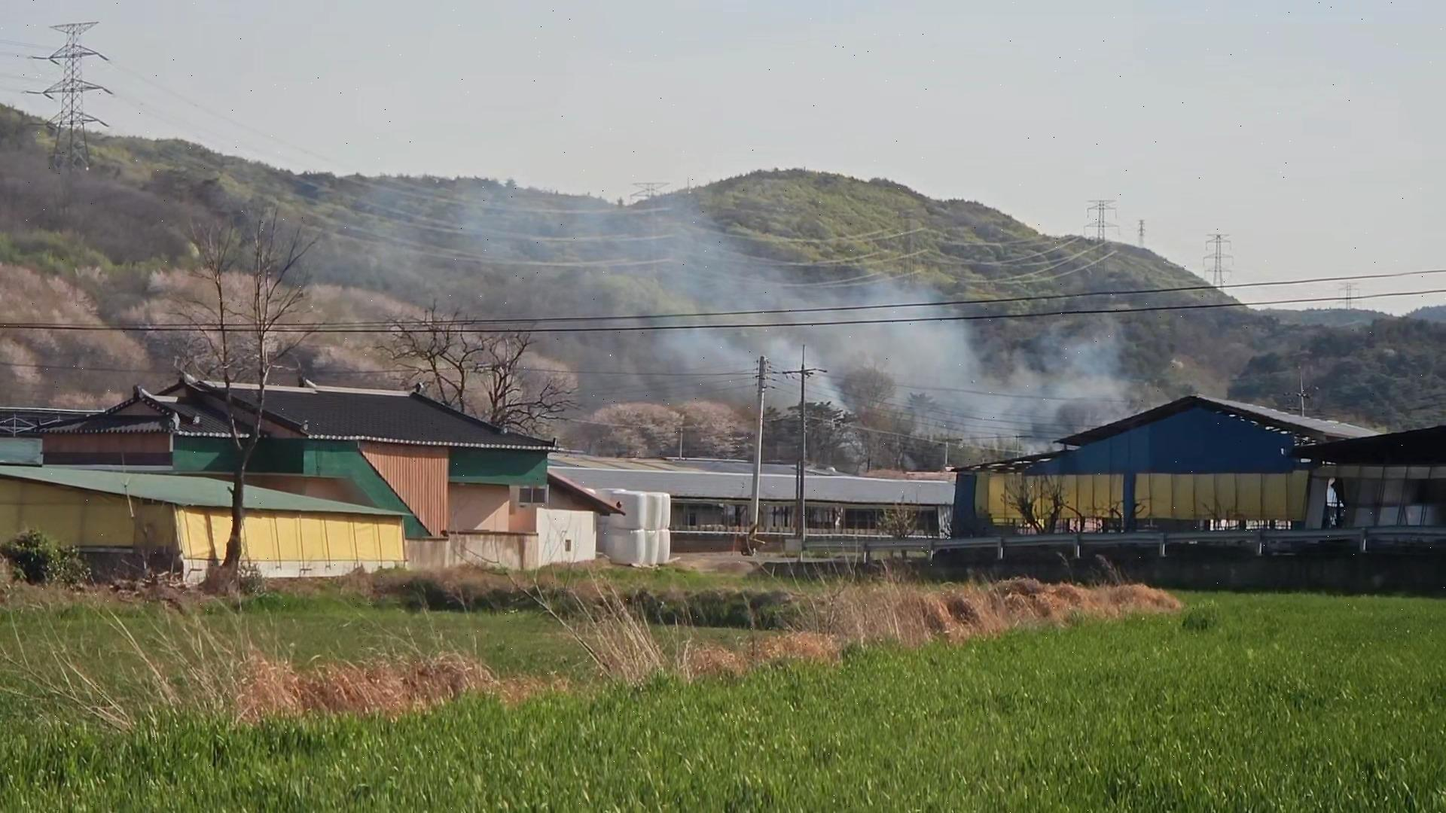smoke: (610, 267, 1132, 445)
